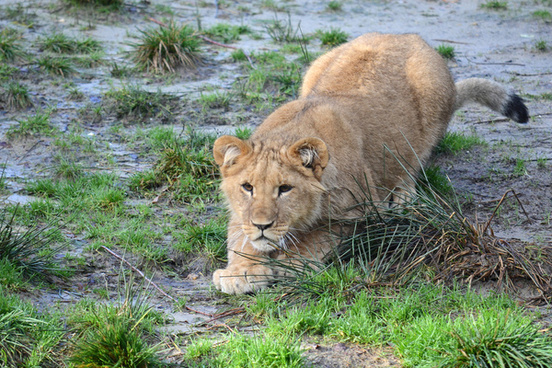lion: (210, 133, 329, 269)
